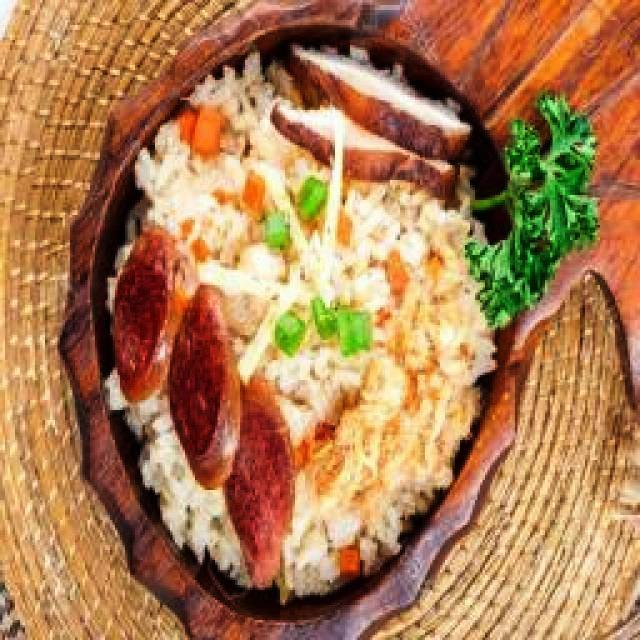Fried Rice: (103, 57, 496, 597)
chinese_sausage: (115, 226, 299, 587)
